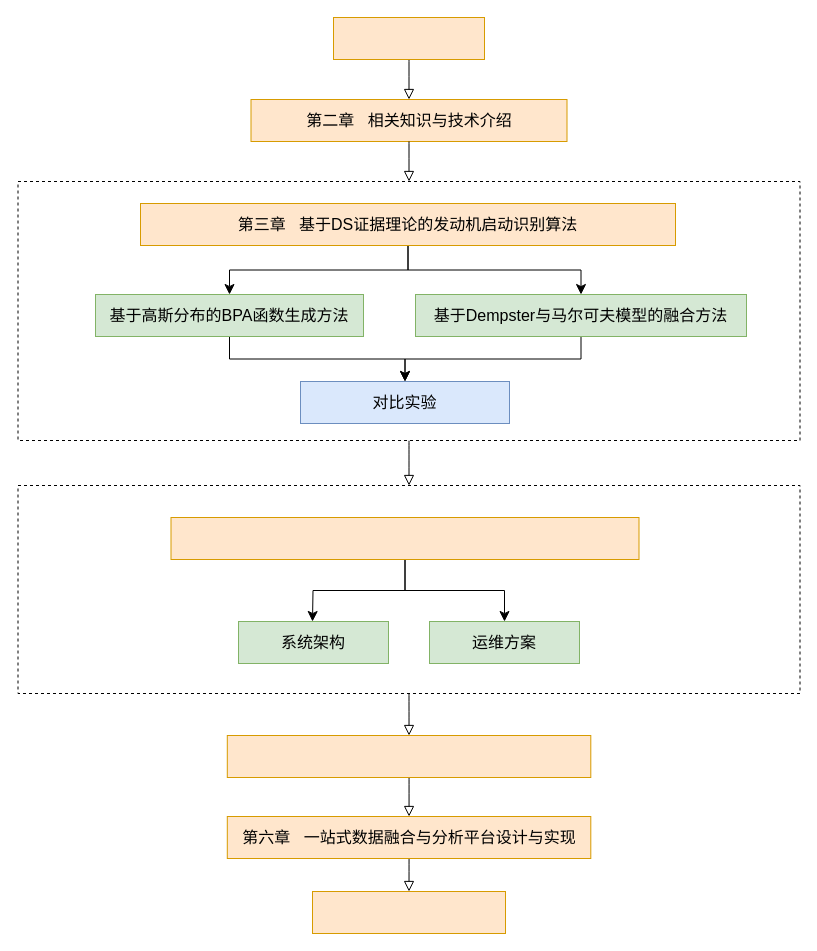
The diagram is 817 pixels wide and 951 high, and some of its shapes have lost their labels. The centre of each missing label's shape, as x and y in pixels:
第一章 绪论: the point at 408,38
第七章 总结与展望: the point at 409,912
第五章 一站式数据融合与分析平台需求分析: the point at 408,756
第四章 基于湖仓一体的多源异构数据存储技术: the point at 404,538
